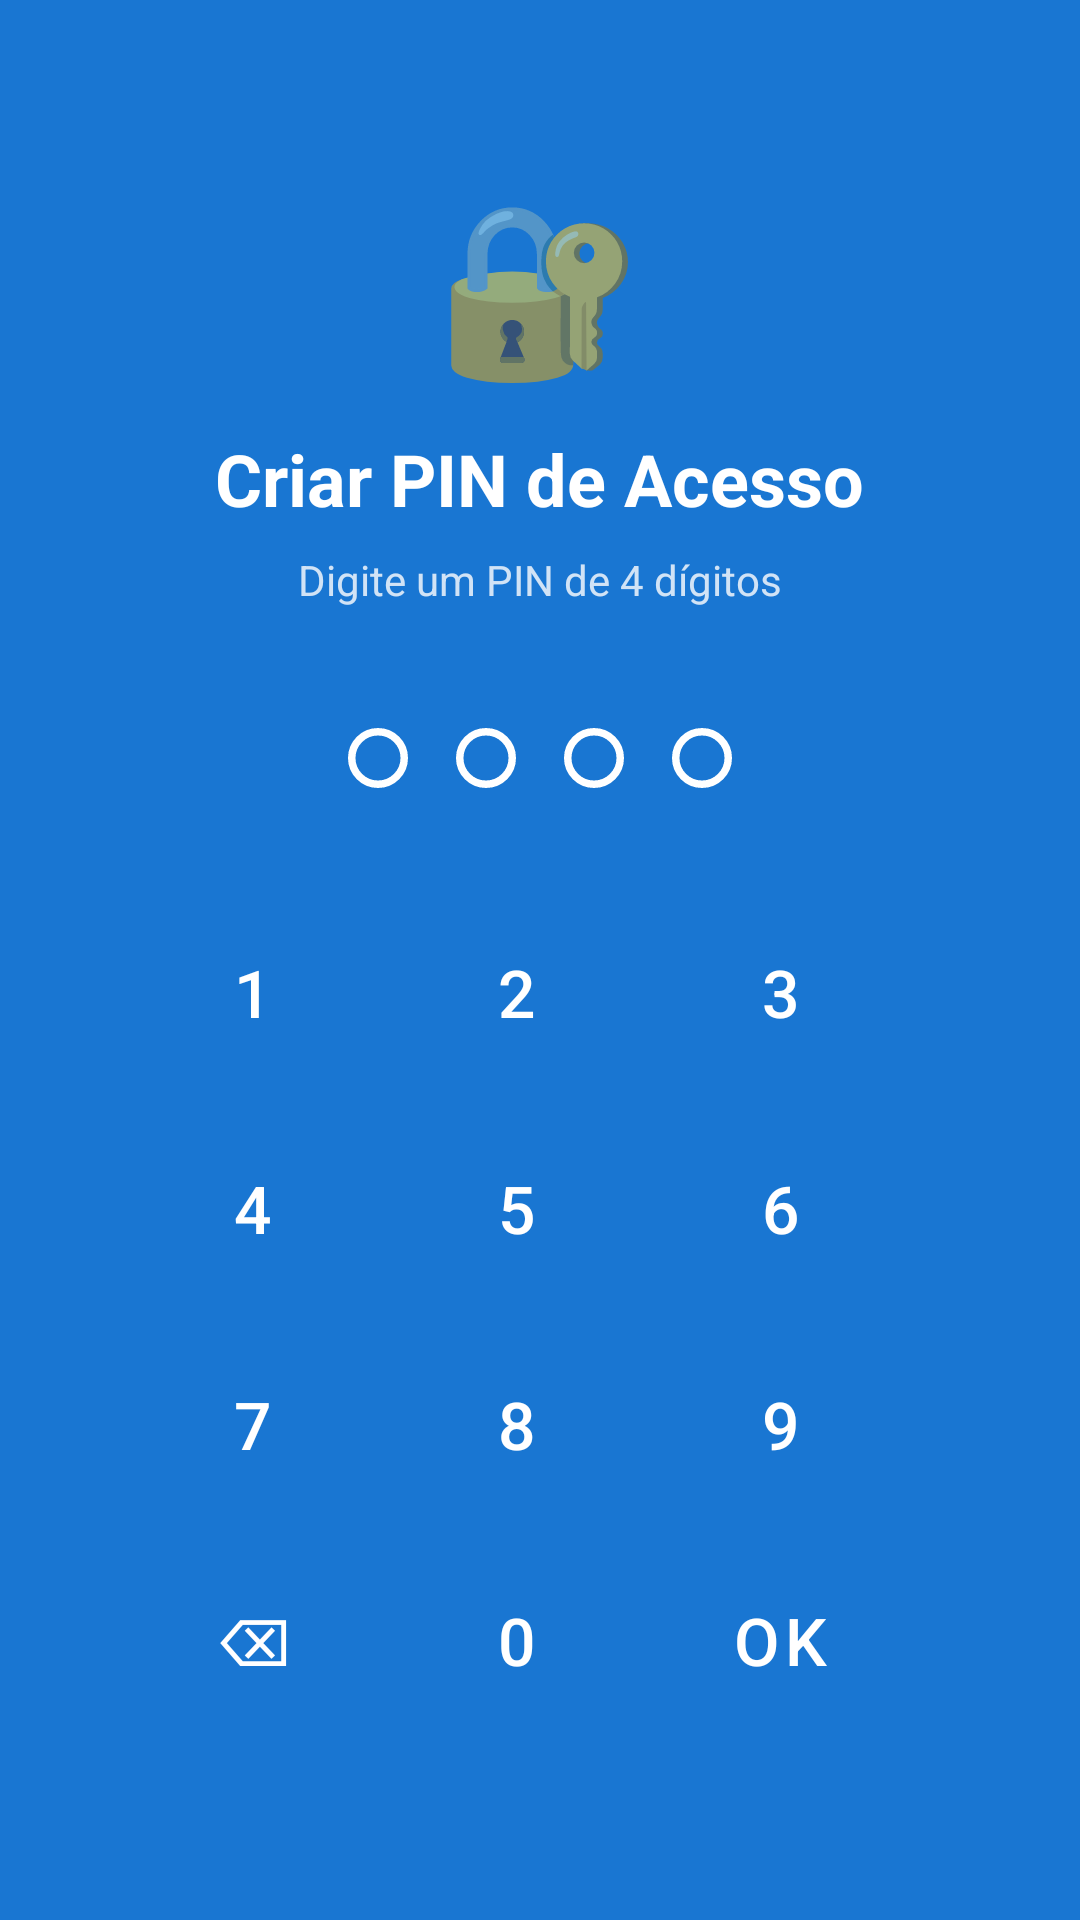

Point at icon controls on the screen. Image size 1080px×1920px, points as [x,y].
dot empty: [378,758], [486,758], [594,758], [702,758]
